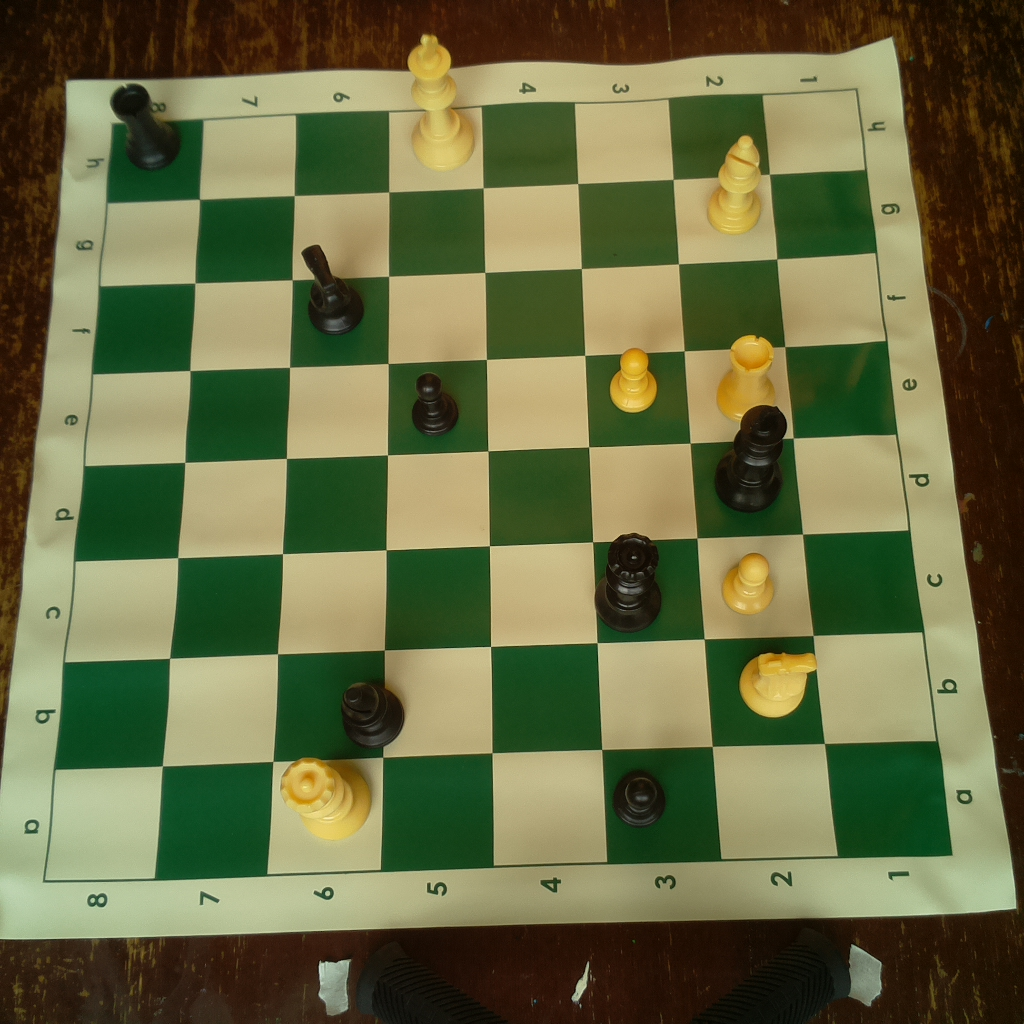black_bishop: (340, 679, 410, 749)
black_king: (712, 404, 792, 514)
black_knight: (296, 236, 367, 335)
black_pawn: (402, 366, 467, 440), (612, 762, 671, 831)
black_queen: (594, 528, 670, 635)
black_rook: (107, 80, 189, 174)
file_a: (46, 740, 954, 882)
file_b: (55, 632, 941, 771)
file_c: (63, 531, 924, 661)
file_d: (77, 436, 911, 561)
file_e: (85, 343, 896, 465)
file_f: (92, 253, 886, 378)
file_g: (99, 170, 877, 286)
file_h: (108, 87, 871, 206)
outline: (46, 91, 954, 882)
rank_1: (762, 90, 954, 860)
rank_2: (668, 93, 840, 858)
rank_3: (575, 99, 723, 864)
rank_4: (480, 101, 610, 862)
rank_5: (376, 104, 496, 871)
rank_6: (266, 110, 390, 877)
rank_7: (155, 117, 297, 882)
rank_8: (46, 118, 203, 880)
white_bishop: (698, 130, 771, 234)
white_king: (402, 31, 480, 173)
white_knight: (737, 645, 820, 717)
white_pawn: (605, 343, 662, 418), (721, 547, 781, 613)
white_queen: (276, 753, 375, 835)
white_rook: (714, 327, 783, 422)
